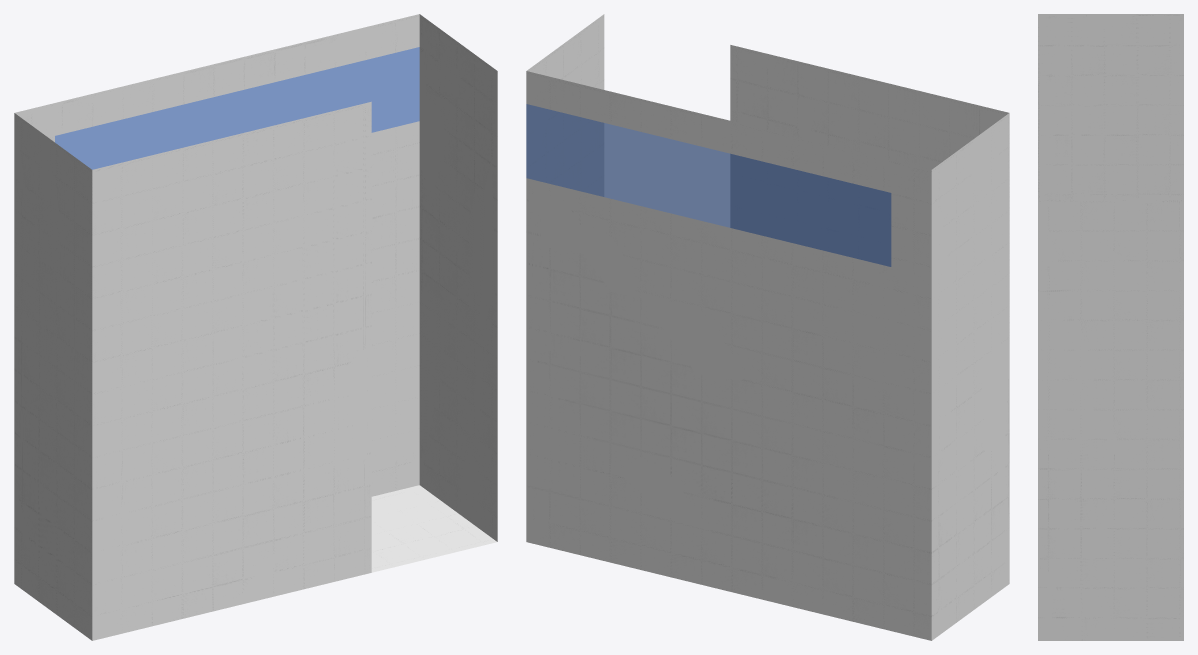
The model's file is CUA002.obj.
3 renders of one model, left to right at view 1: azimuth 30°, elevation 25°; view 2: azimuth 150°, elevation 25°; view 3: azimuth 270°, elevation 25°, orthographic. The views are drawn at different scales.
Visible parts, largest first — view 1: Mesh1 CUA02 Model; view 2: Mesh1 CUA02 Model; view 3: Mesh1 CUA02 Model.
Part boxes in pixels (left/top/right/bottom): Mesh1 CUA02 Model: left=14, top=14, right=497, bottom=640; Mesh1 CUA02 Model: left=526, top=14, right=1009, bottom=640; Mesh1 CUA02 Model: left=1038, top=14, right=1183, bottom=640.
Size of the model in its own units: 2.71 by 3.02 by 0.9031.
3 materials, 1 textured.
